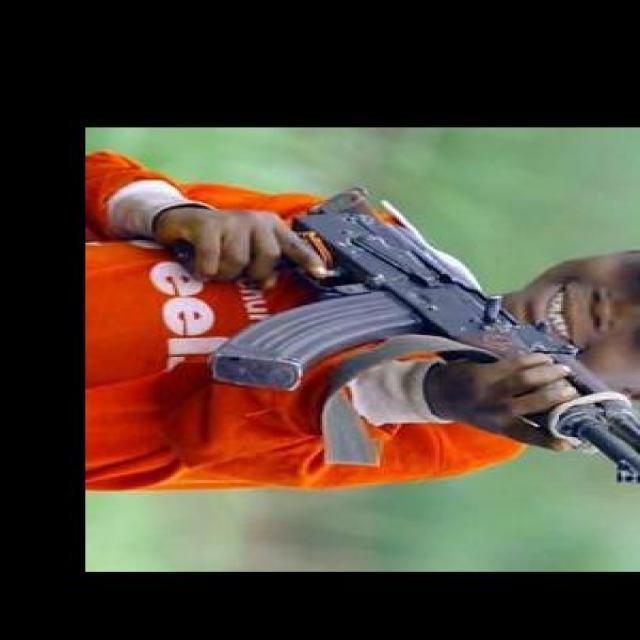weapon: (208, 186, 640, 488)
